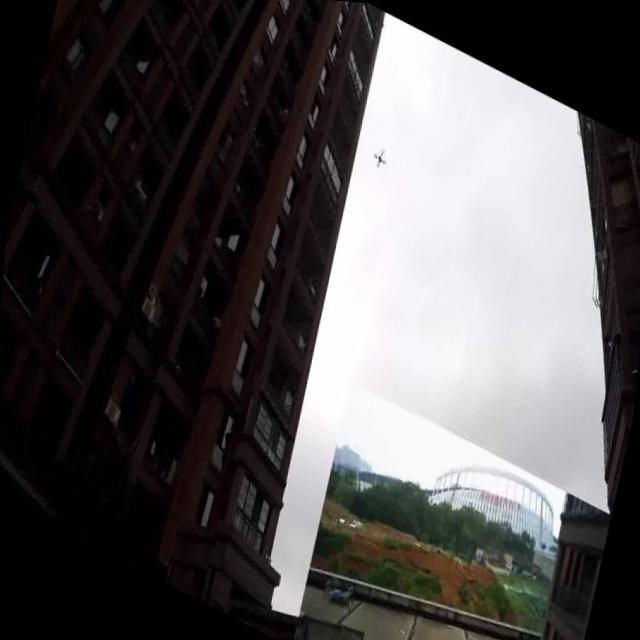drone: (365, 130, 394, 179)
